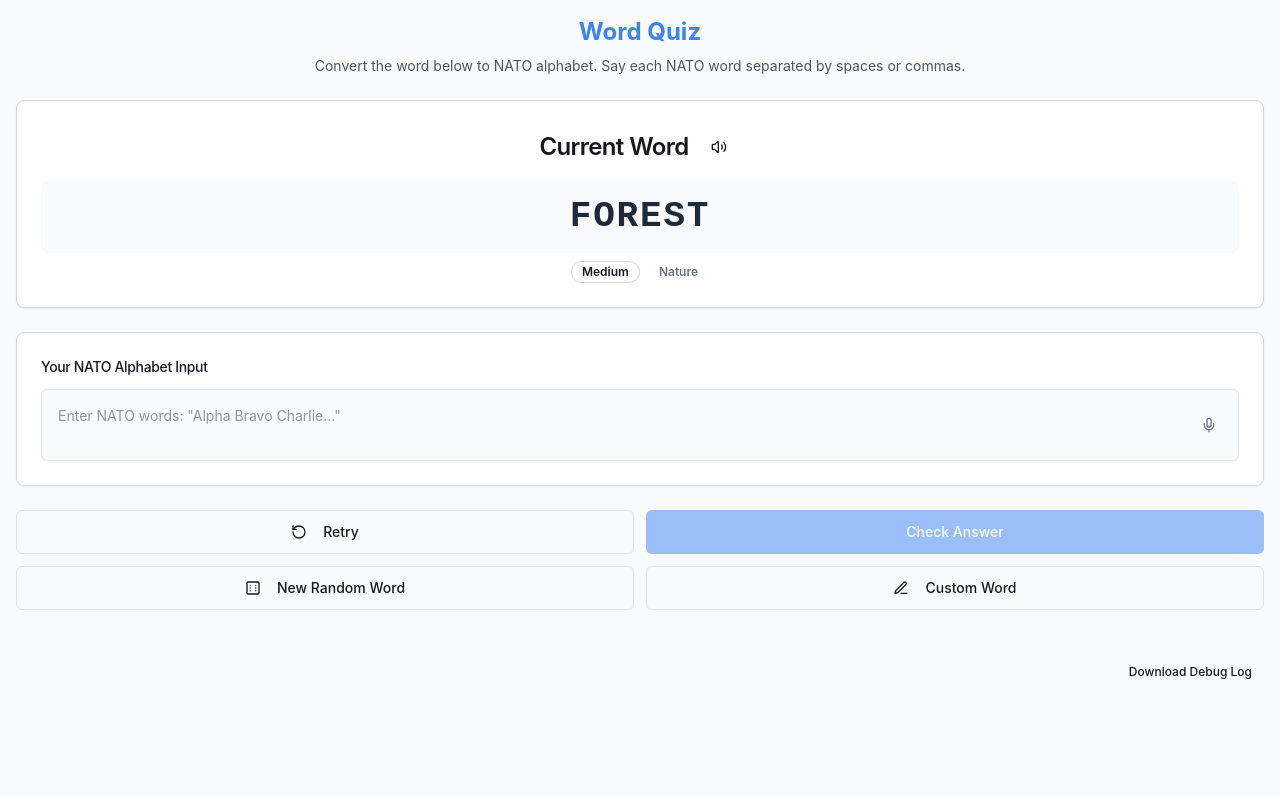
wordQuizSection › quiz flow › should show live scoring as user types
expect the heading "Word Quiz" is shown: met, box [579,17,701,46]
Enable custom mode first
Click the button "Custom Word" at (955, 588), box [646,566,1264,610]
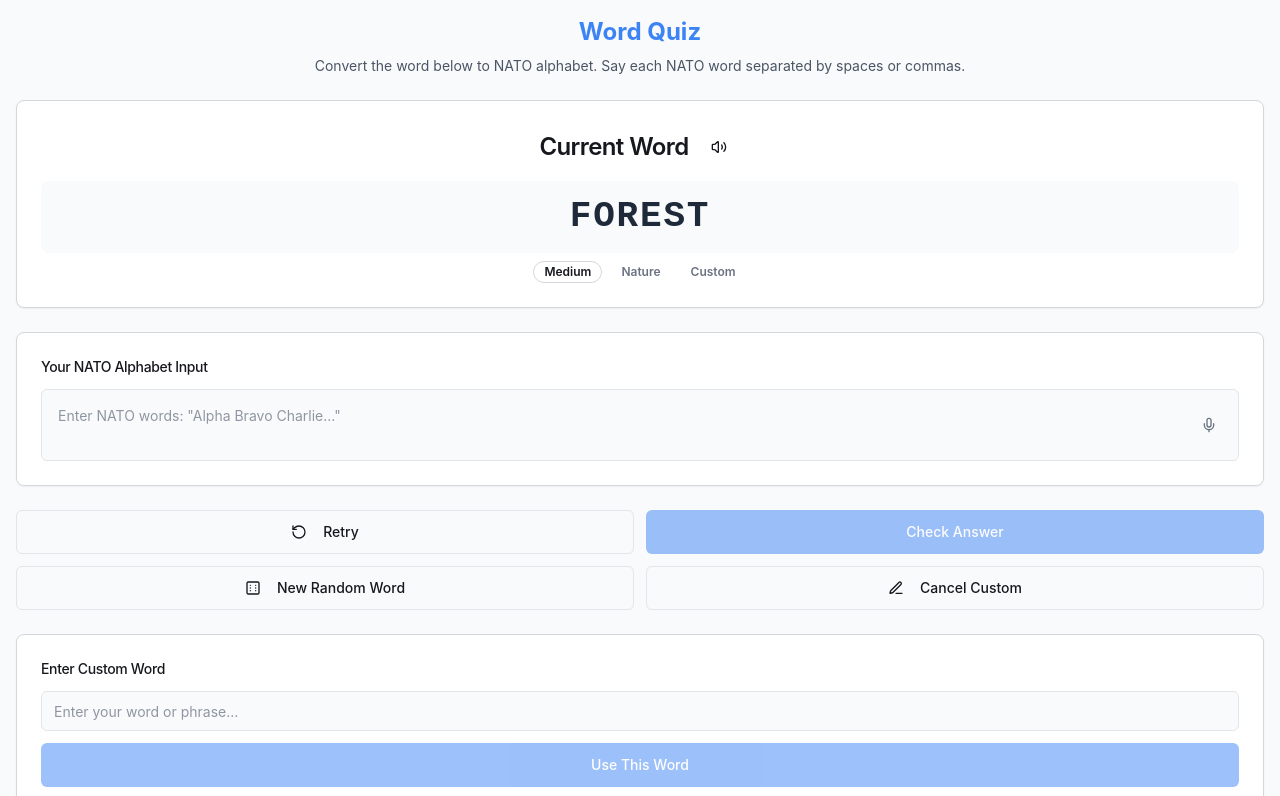
Type "CAT" into the field with placeholder "Enter your word or phrase..." at (640, 711), box [41,691,1239,731]
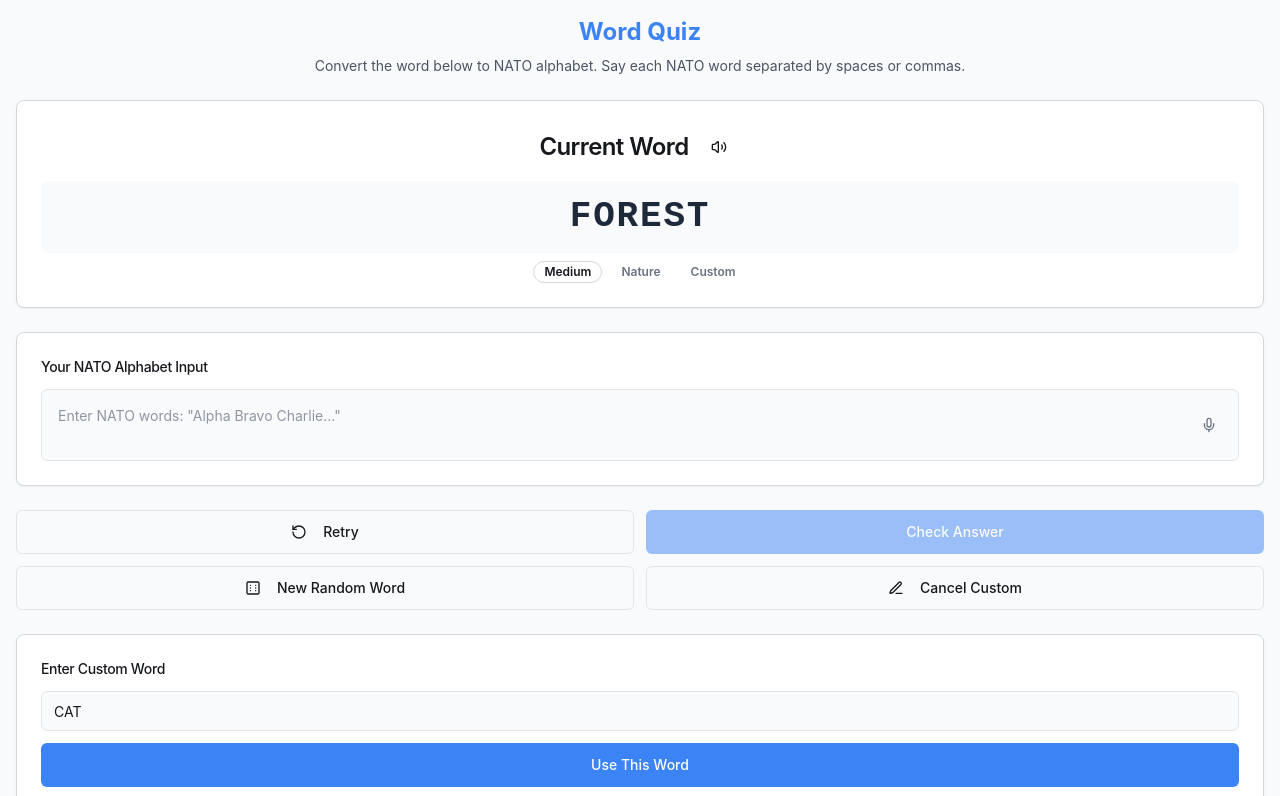
Click the button "Use This Word" at (640, 765), box [41,743,1239,787]
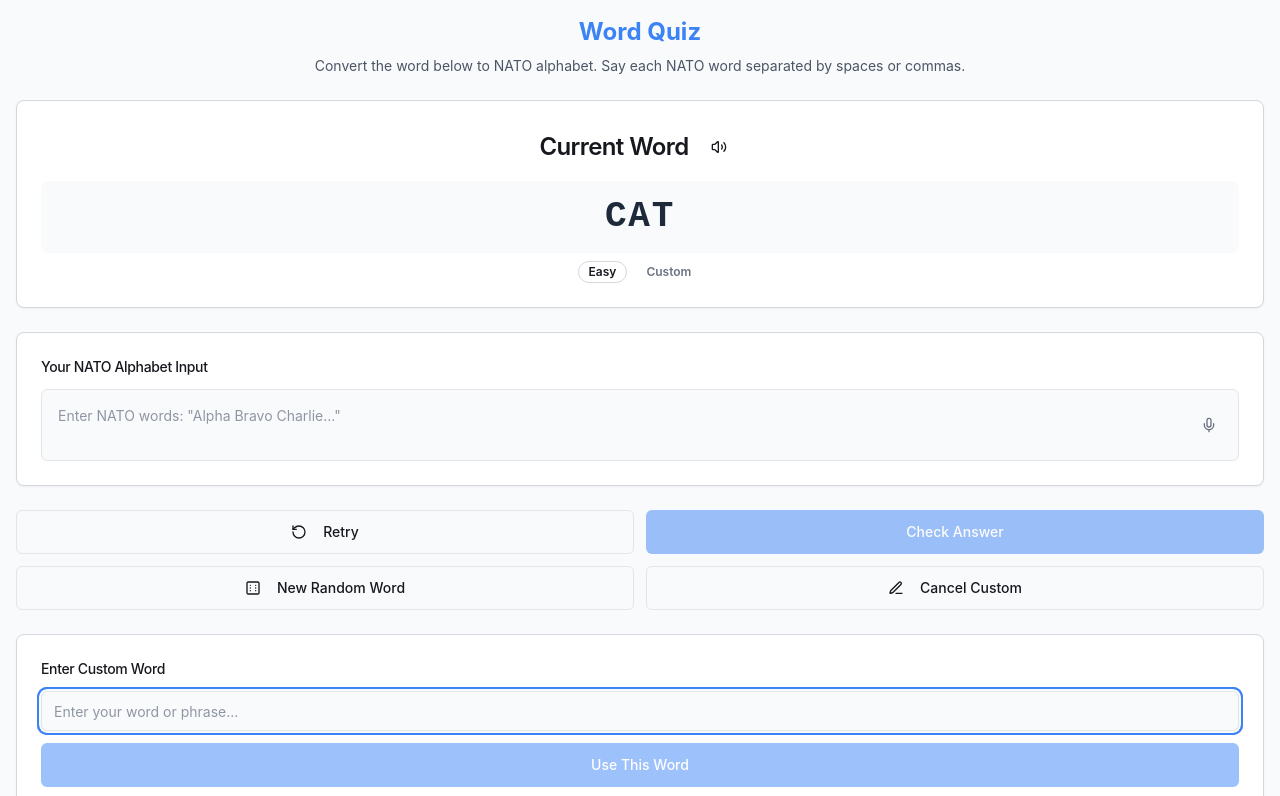
expect the element with class "font-mono" reads "CAT": met, box [41,181,1239,253]
Type "Charlie" into the text box with placeholder "Enter NATO words: \"Alpha Bravo Charlie...\"" at (640, 425), box [41,389,1239,461]
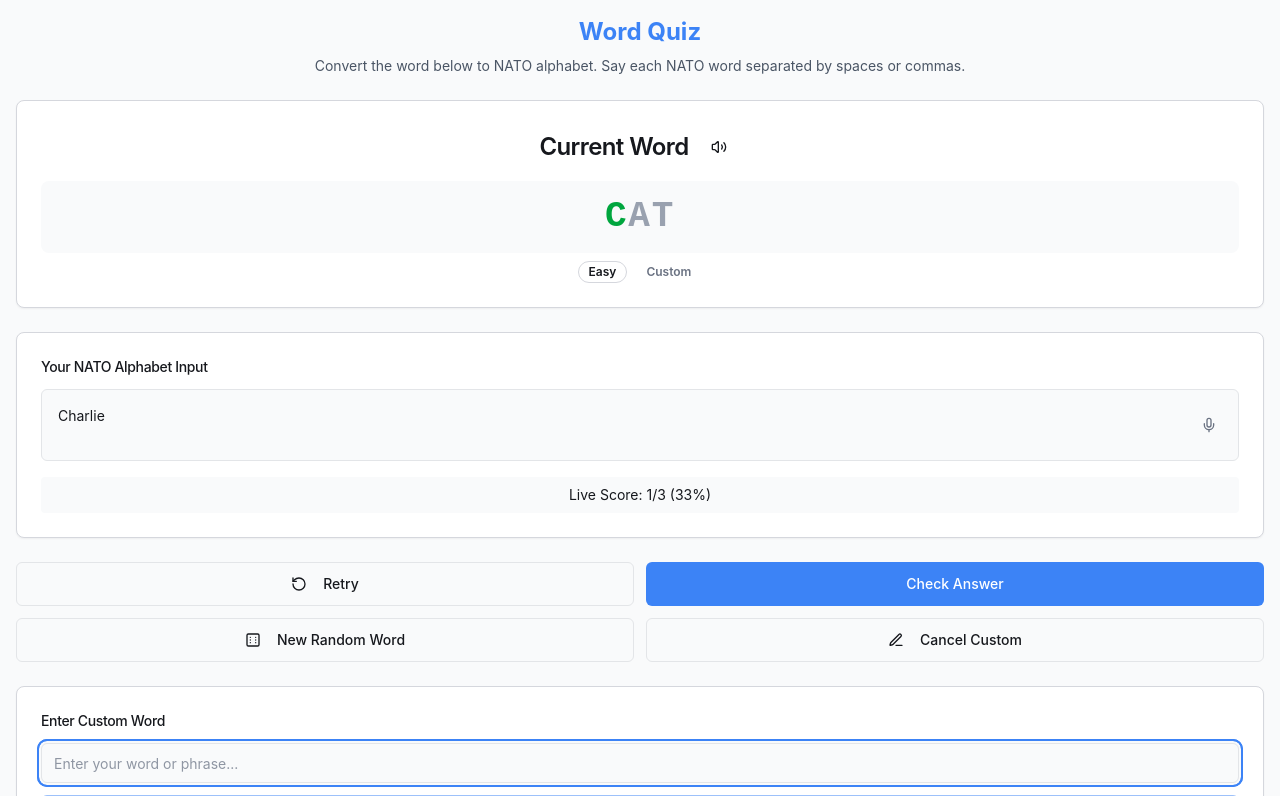
expect the text "Live Score: 1/3 (33%)" is shown: met, box [41,477,1239,513]
